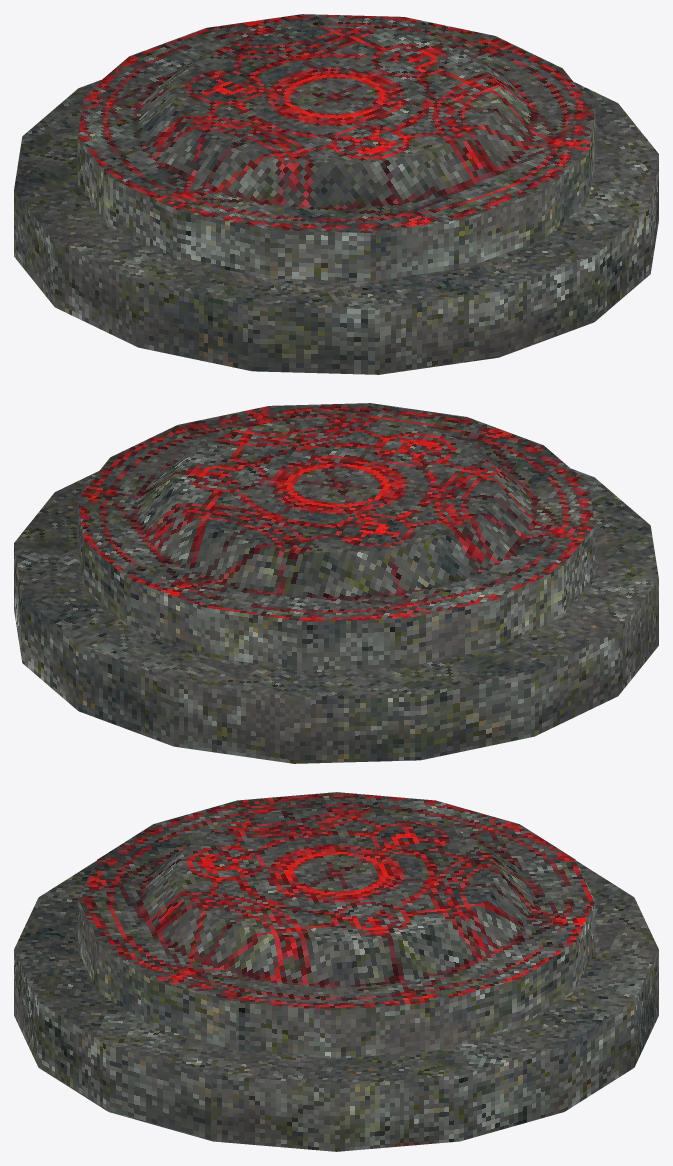
The model's file is Sacrifical-Ground_1.gltf.
3 renders of one model, top to bottom at view 1: azimuth 30°, elevation 25°; view 2: azimuth 150°, elevation 25°; view 3: azimuth 270°, elevation 25°, orthographic.
Visible parts, largest first — view 1: Sacrifical-Ground_1; view 2: Sacrifical-Ground_1; view 3: Sacrifical-Ground_1.
Part boxes in pixels (left/top/right/bottom): Sacrifical-Ground_1: left=14, top=14, right=658, bottom=374; Sacrifical-Ground_1: left=14, top=403, right=658, bottom=763; Sacrifical-Ground_1: left=14, top=792, right=658, bottom=1151.
Bounding box in the file's own units: 6.86 × 1.66 × 6.86.
Materials: 1 (1 with a texture image).
